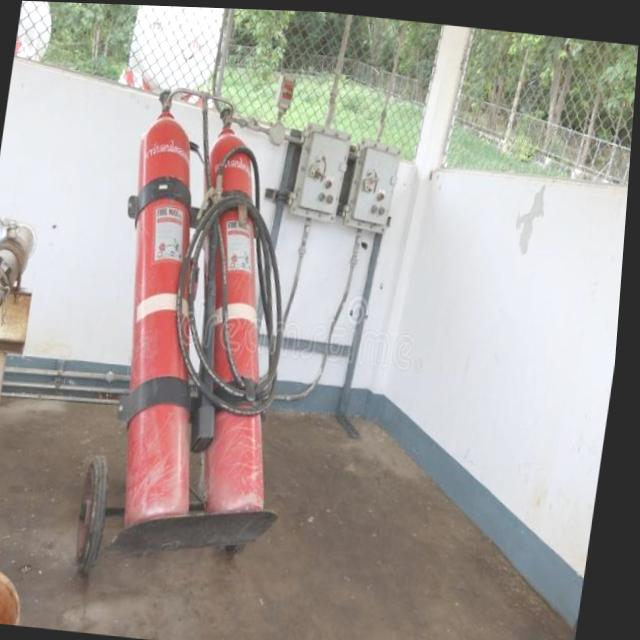FireExtinguisher: (83, 76, 258, 559), (157, 94, 326, 551)
